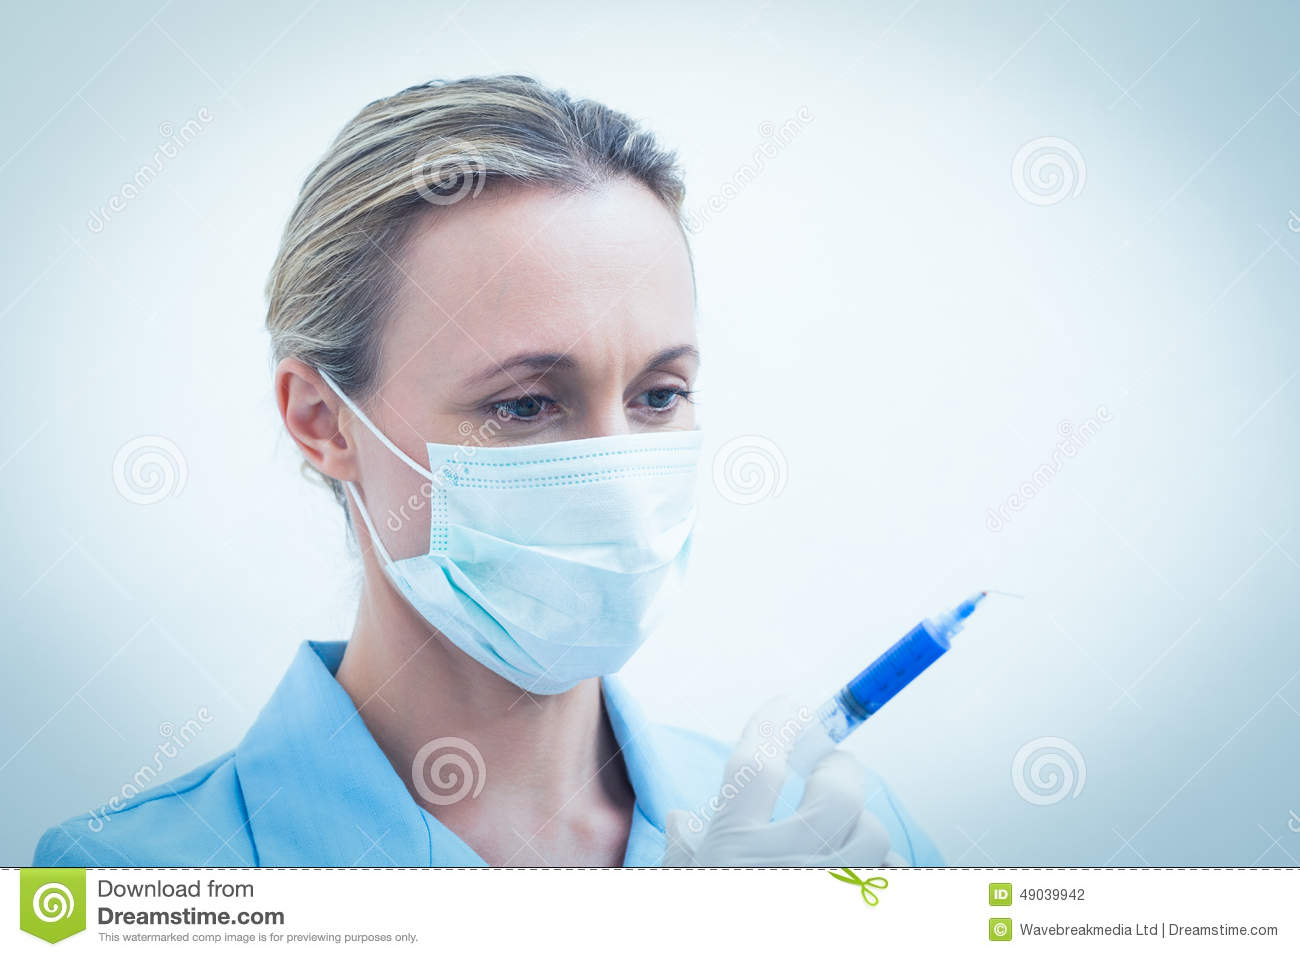mask: (385, 426, 732, 682)
